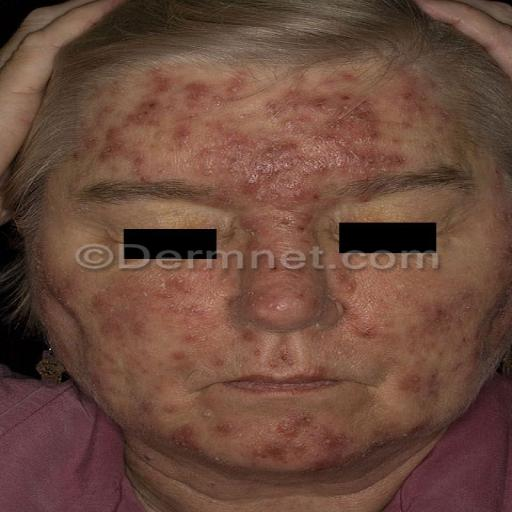Skin_Lesion: (266, 427, 360, 470), (259, 90, 322, 134), (332, 88, 377, 136), (90, 134, 150, 170), (412, 352, 443, 419), (236, 148, 296, 181), (337, 146, 412, 172), (156, 273, 196, 310), (262, 196, 295, 240), (246, 278, 292, 308), (425, 290, 452, 337), (113, 316, 151, 348), (144, 76, 170, 119), (183, 416, 205, 465), (134, 402, 174, 428), (398, 79, 432, 109), (168, 334, 201, 364), (88, 286, 112, 314), (92, 96, 116, 122), (227, 74, 245, 108), (173, 118, 192, 148), (312, 187, 322, 206)
